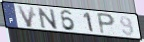1: (82, 13, 95, 34)
6: (60, 9, 76, 32)
9: (119, 16, 135, 37)
N: (36, 6, 59, 30)
P: (95, 12, 116, 36)
V: (16, 5, 36, 29)
